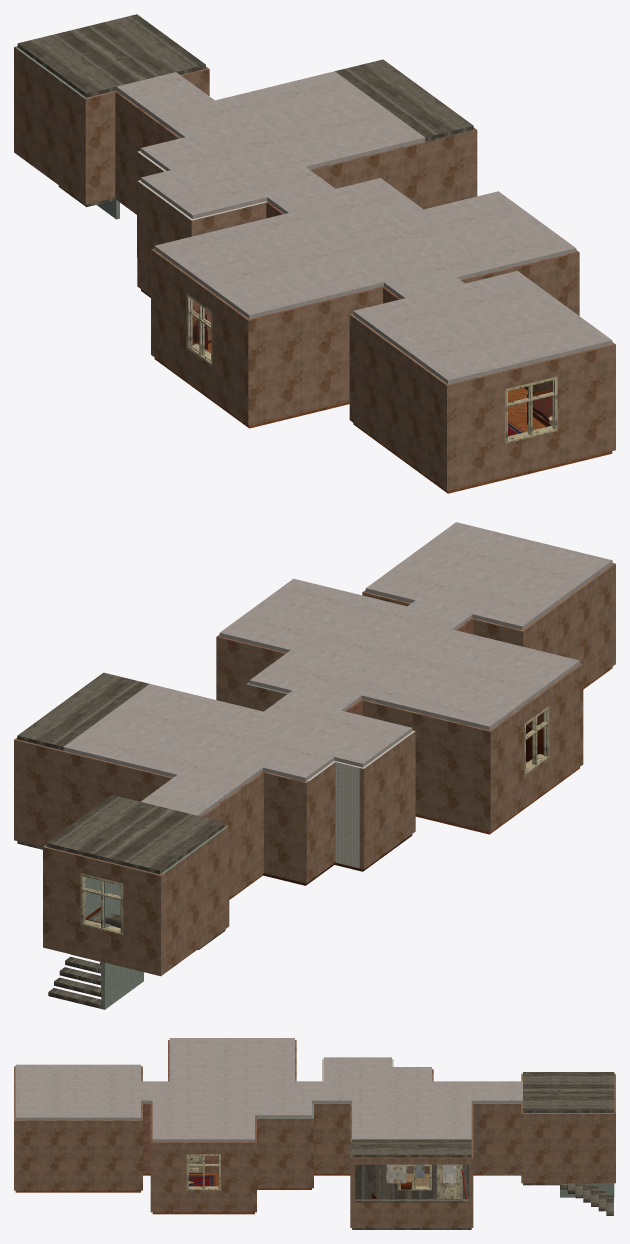
The model's file is apartment.glb.
The picture shows the model from 3 angles, top to bottom: view 1: azimuth 30°, elevation 25°; view 2: azimuth 150°, elevation 25°; view 3: azimuth 270°, elevation 25°; orthographic projection. The views are drawn at different scales.
Parts seen in each view (by area): view 1: Architecture, Bedroom_Furniture; view 2: Architecture; view 3: Architecture, Door_Loggia, Loggia_Furniture, Kids_Furniture.
Boxes of the visible parts, x1,y1,x2,y2 form: Architecture: (14, 14, 615, 493); Bedroom_Furniture: (508, 389, 552, 436); Architecture: (14, 522, 615, 1009); Architecture: (14, 1038, 615, 1229); Door_Loggia: (439, 1164, 459, 1198); Loggia_Furniture: (371, 1164, 467, 1198); Kids_Furniture: (189, 1175, 215, 1186).
Size of what is drawn, in the model's own units: 9.85 by 4.11 by 21.12.
Materials: 49 (34 with a texture image).
